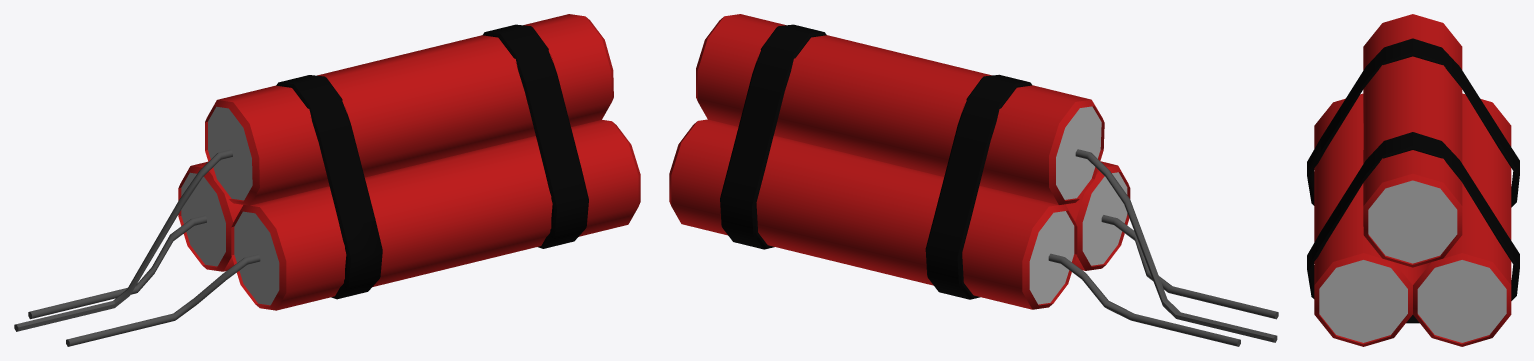
Rendered from TNTPack_01.fbx.
The picture shows the model from 3 angles, left to right: view 1: azimuth 30°, elevation 25°; view 2: azimuth 150°, elevation 25°; view 3: azimuth 270°, elevation 25°; orthographic projection. The views are drawn at different scales.
Visible parts, largest first — view 1: polySurface10; view 2: polySurface10; view 3: polySurface10.
Part boxes in pixels (x1=…): polySurface10: x1=14, y1=14, x2=640, y2=346; polySurface10: x1=669, y1=14, x2=1278, y2=346; polySurface10: x1=1307, y1=14, x2=1519, y2=346.
Size of the model in its own units: 46.42 by 15.01 by 16.29.
